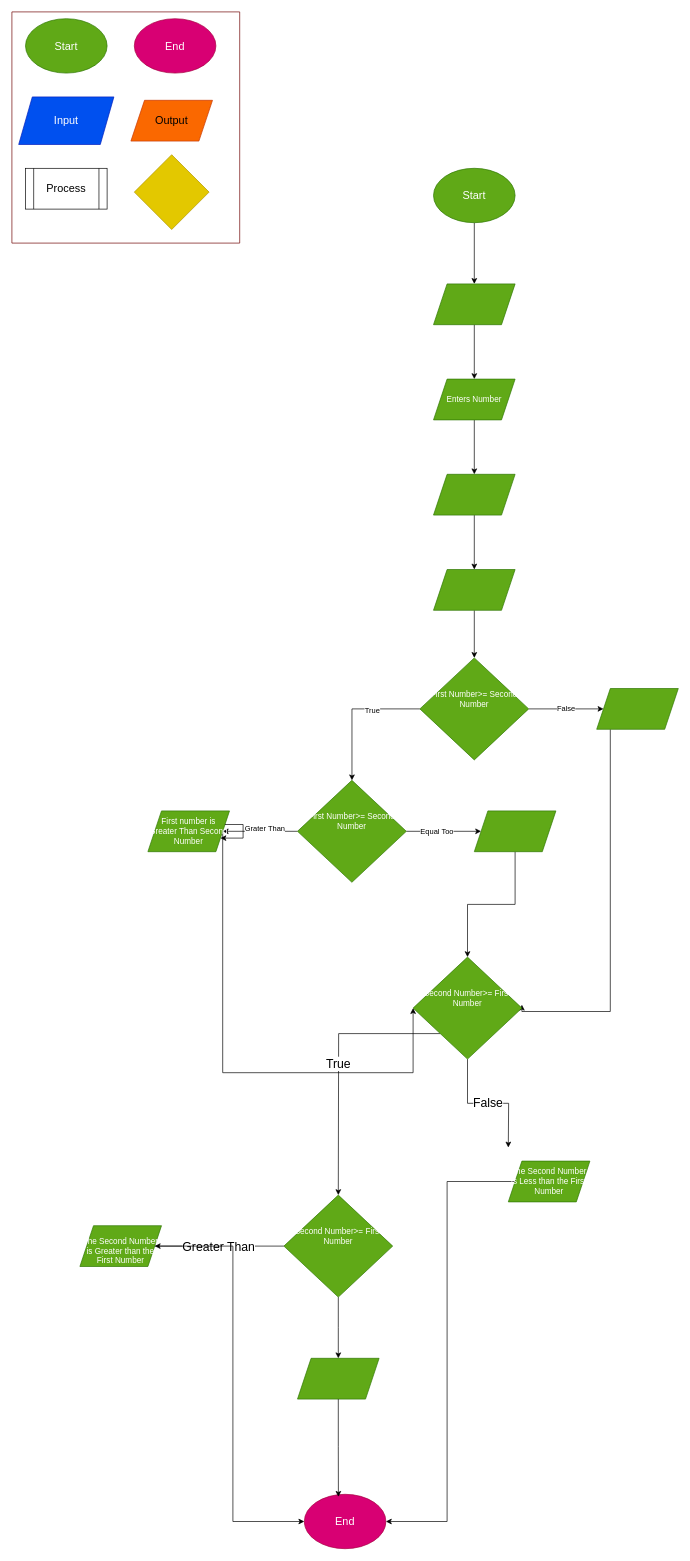
The diagram is 690 pixels wide and 1561 high, and some of its shapes have lost their labels. The shapes that lost their labels are listed below. From the top down, each one's centre as x and y in pixels, then its label:
pixel 171 192: Decision
pixel 474 304: Enter First Number
pixel 474 494: Enter Second Number
pixel 474 589: Enters Second number
pixel 637 708: The First Number is Less than the Second Number
pixel 515 831: The First Number is Equal to the Second Number
pixel 338 1378: The Second Number is Equal to the First Number
